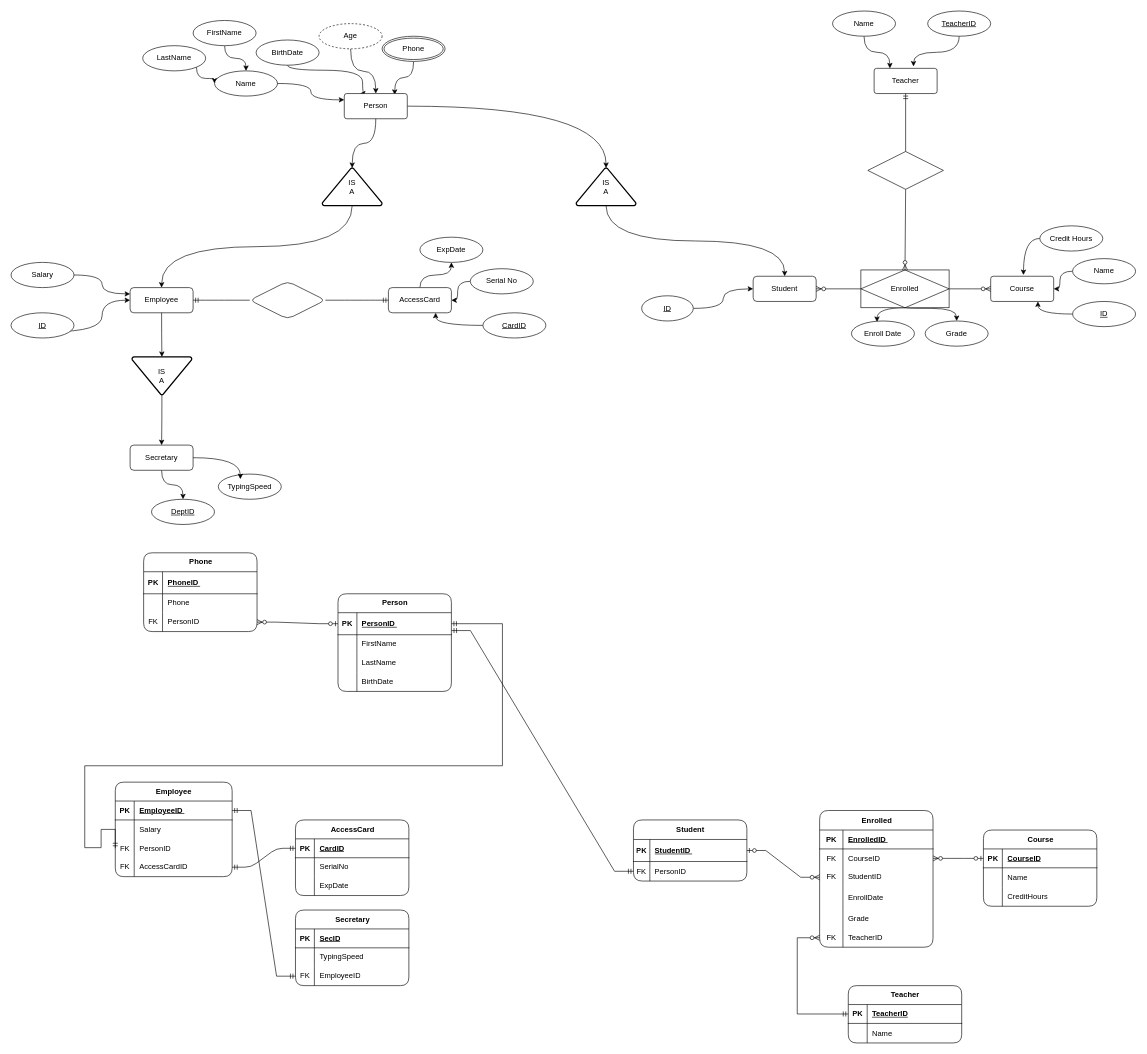
The diagram is 1147 pixels wide and 1054 high, and some of its shapes have lost their labels. Here are the shapes that lost their labels. From the top down, the centre of each, then its label:
[905,170]: Teach
[287,300]: Has
